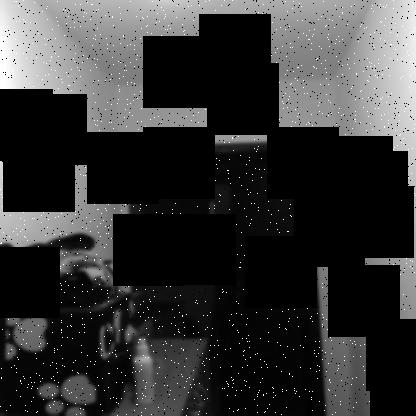Porte: (122, 137, 330, 415)
